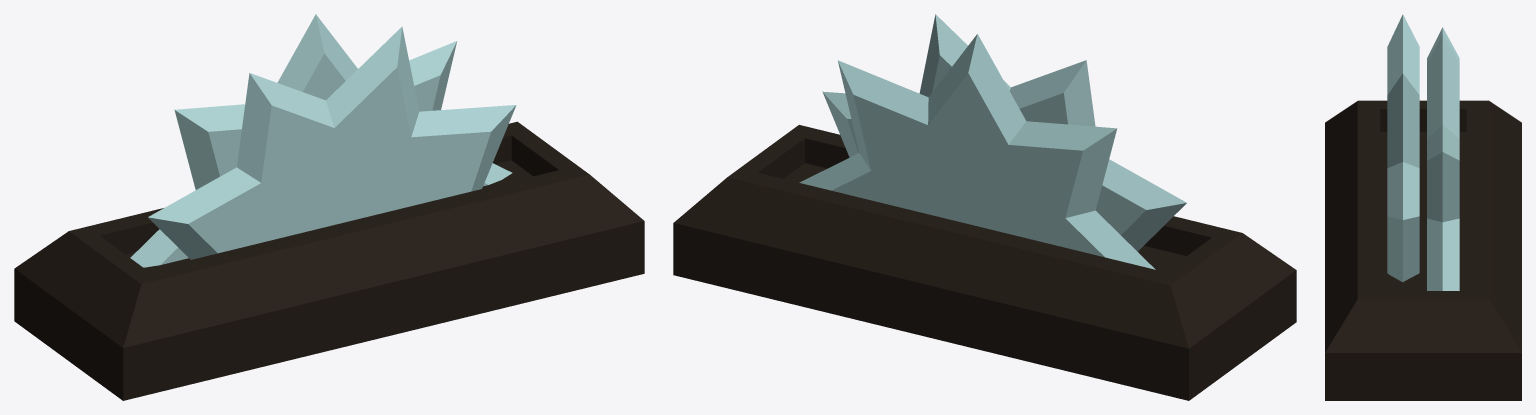
The model's file is Sierra_color.fbx.
3 renders of one model, left to right at view 1: azimuth 30°, elevation 25°; view 2: azimuth 150°, elevation 25°; view 3: azimuth 270°, elevation 25°, orthographic. The views are drawn at different scales.
Parts seen in each view (by area): view 1: Sierra; view 2: Sierra; view 3: Sierra.
Part boxes in pixels (x1,y1,x2,y2): Sierra: (14, 14, 644, 400); Sierra: (673, 14, 1296, 400); Sierra: (1325, 14, 1521, 400).
Bounding box in the file's own units: 12.34 × 6.26 × 4.46.
